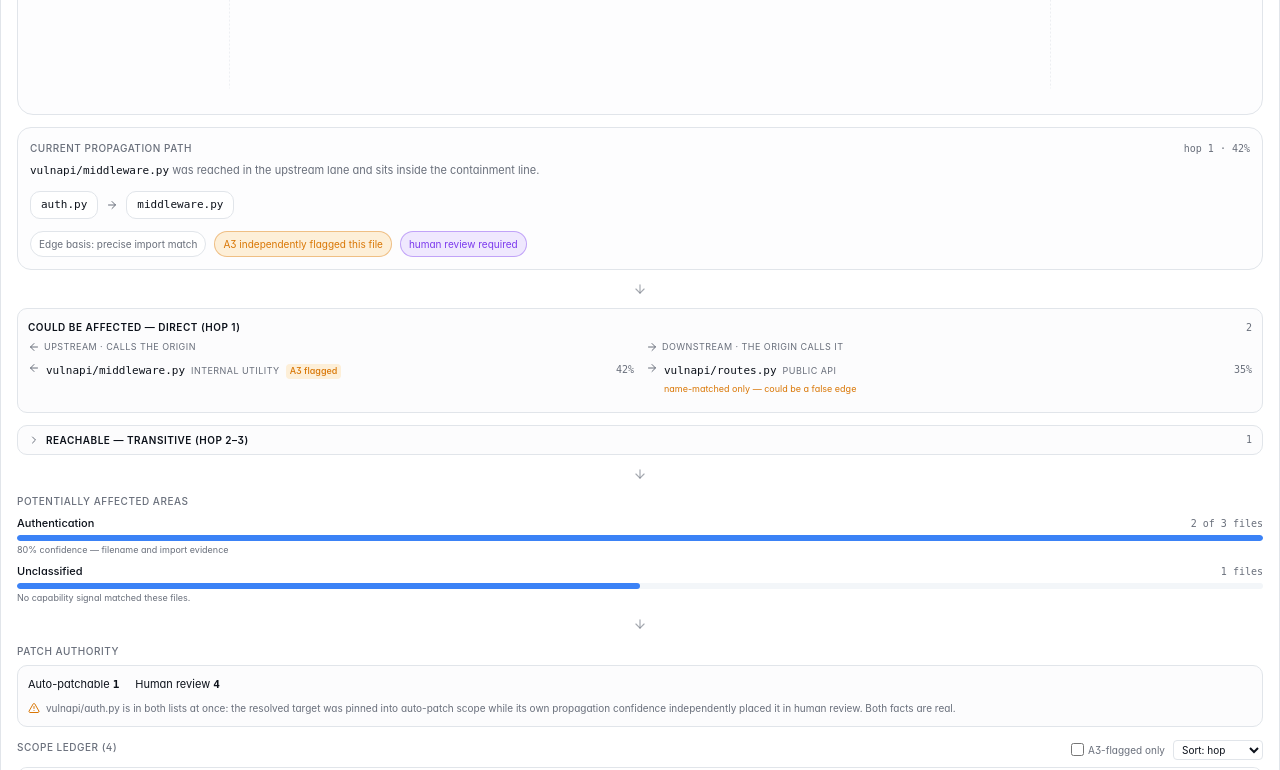
Scenario: BlastRadiusPanel › opens the inspector with real per-file detail on selection
(page scrolled)
Click the text "vulnapi/middleware.py" below "upstream · calls the origin" at point(116, 371), box 46,362 -> 185,380
(page scrolled)
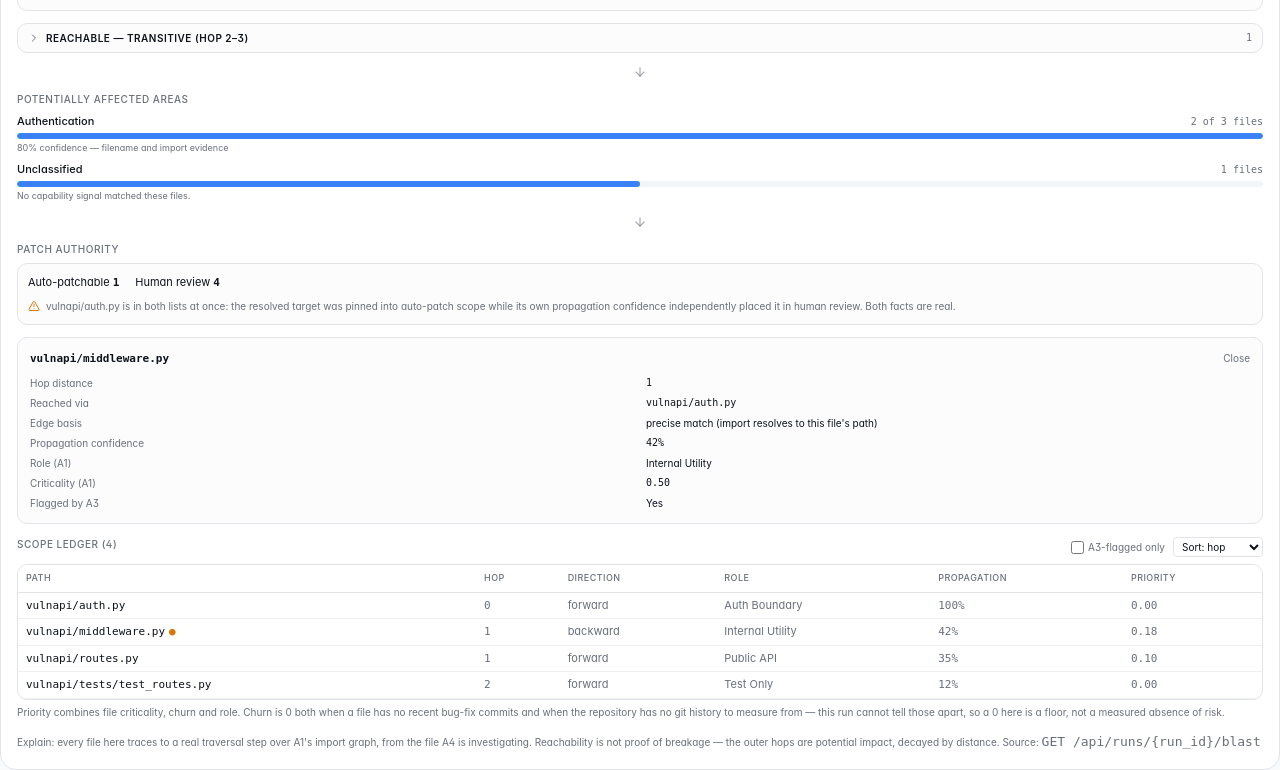
expect the text "vulnapi/auth.py" is shown: met, box 646,397 -> 736,408
expect the text "precise match (import resolves to this file's path)" is shown: met, box 646,417 -> 878,429
